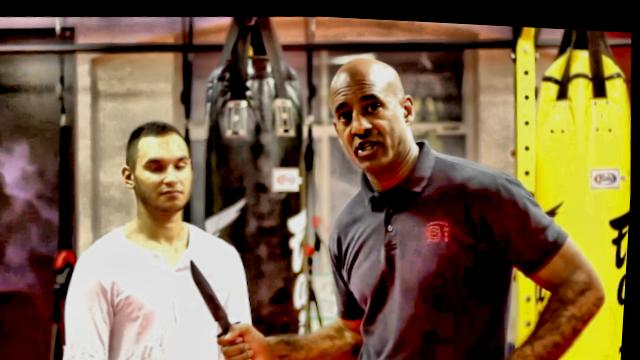knife: (181, 249, 271, 360)
